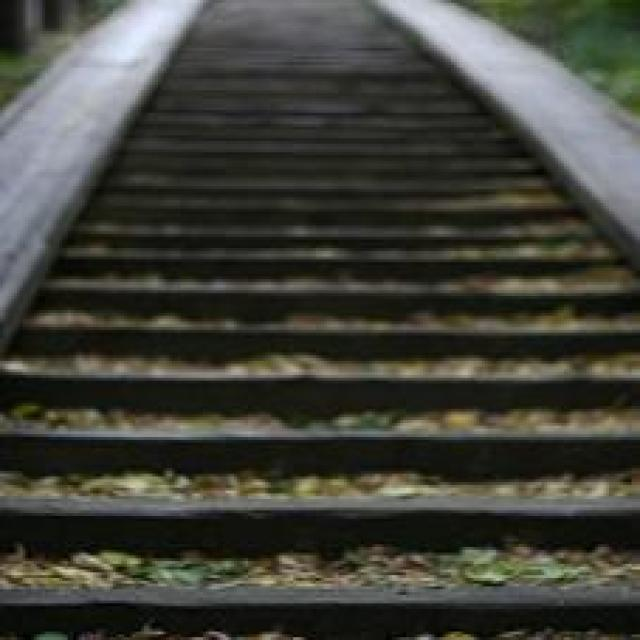upstair: (24, 241, 602, 619)
